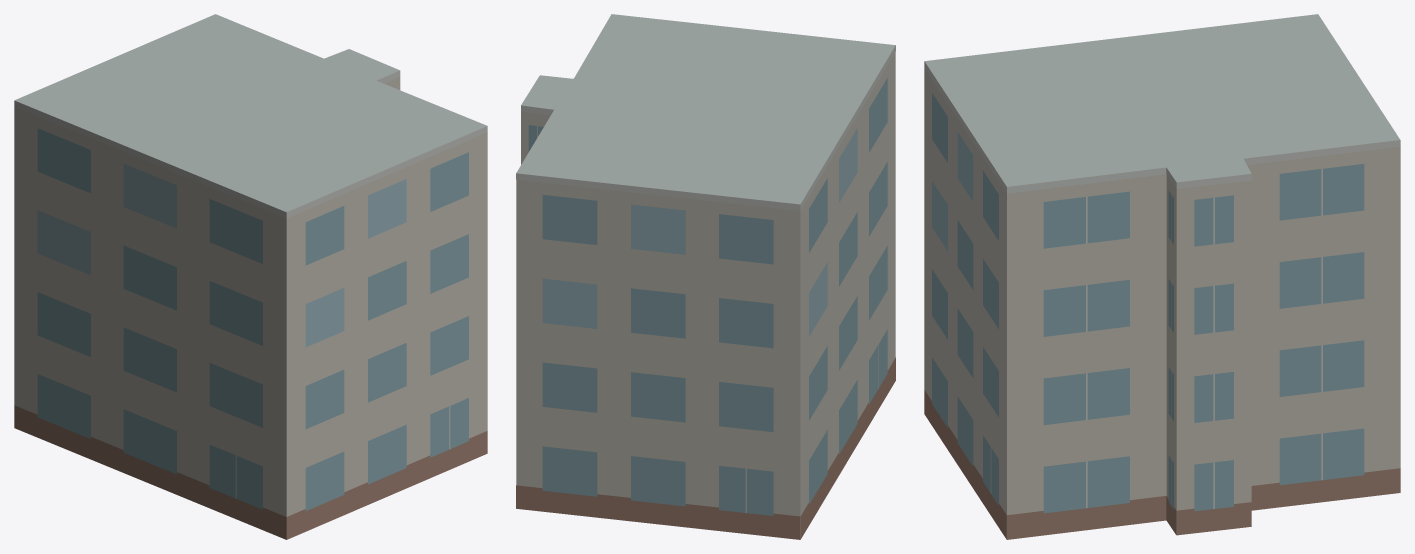
Rendered from survey-upis-32751385.glb.
The picture shows the model from 3 angles, left to right: view 1: azimuth 30°, elevation 25°; view 2: azimuth 150°, elevation 25°; view 3: azimuth 270°, elevation 25°; orthographic projection. The views are drawn at different scales.
Visible parts, largest first — view 1: survey-upis-32751385.tmp; view 2: survey-upis-32751385.tmp; view 3: survey-upis-32751385.tmp.
Part boxes in pixels (x1=…): survey-upis-32751385.tmp: x1=14, y1=14, x2=487, y2=539; survey-upis-32751385.tmp: x1=516, y1=14, x2=895, y2=539; survey-upis-32751385.tmp: x1=924, y1=14, x2=1400, y2=539.
Bounding box in the file's own units: 13.46 × 12.8 × 15.66.
